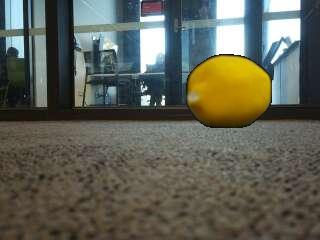lemon: (188, 57, 272, 129)
